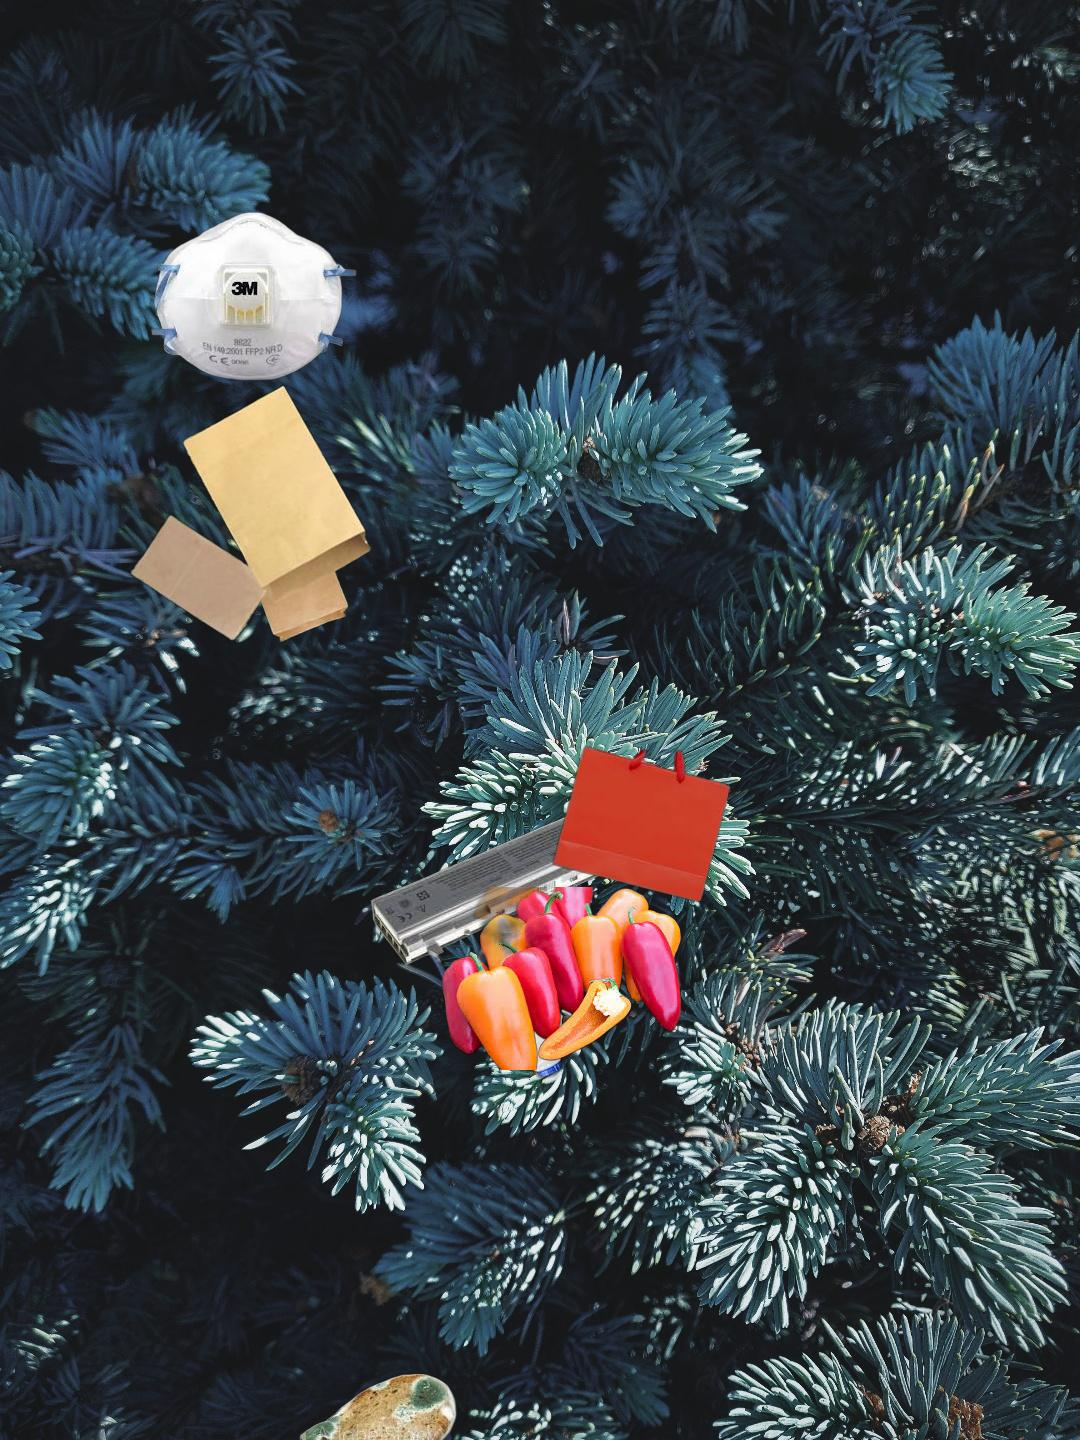battery: (370, 793, 659, 967)
biological: (433, 887, 684, 1070), (297, 1371, 459, 1440)
paper-bag: (98, 370, 376, 645), (476, 744, 733, 1013)
plastic-bottles: (476, 972, 579, 1084)
trash: (147, 209, 362, 383)
